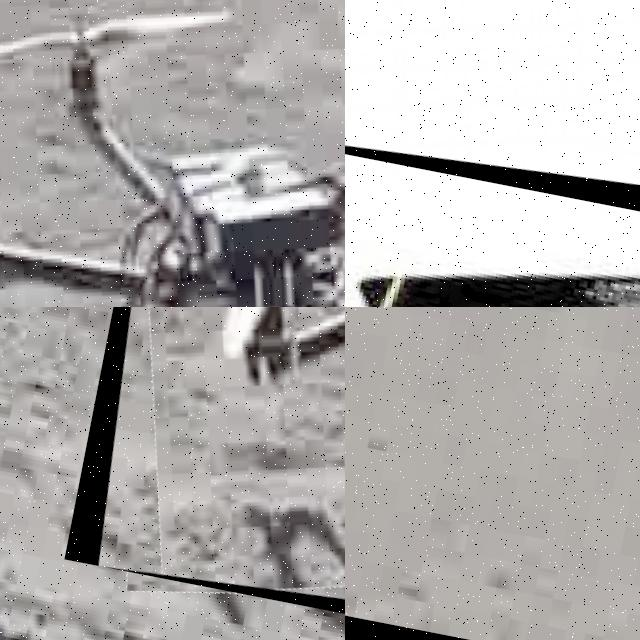drone: (0, 0, 345, 307), (64, 307, 345, 640), (345, 0, 640, 242)
